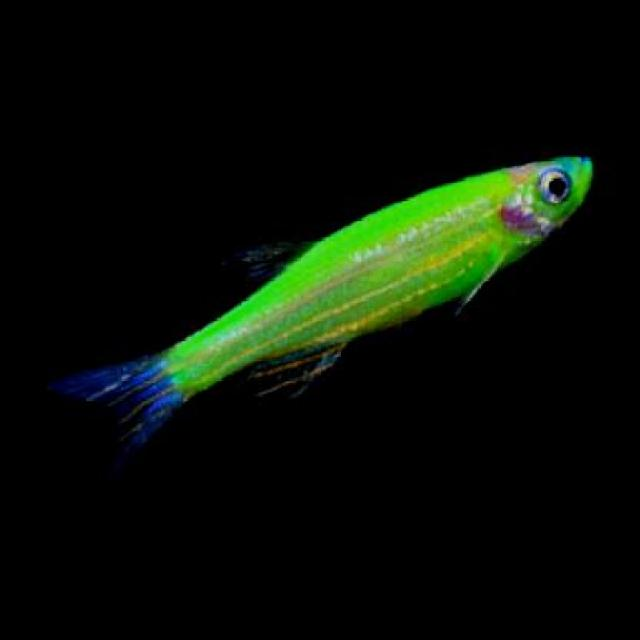ZebraFish: (47, 152, 599, 472)
